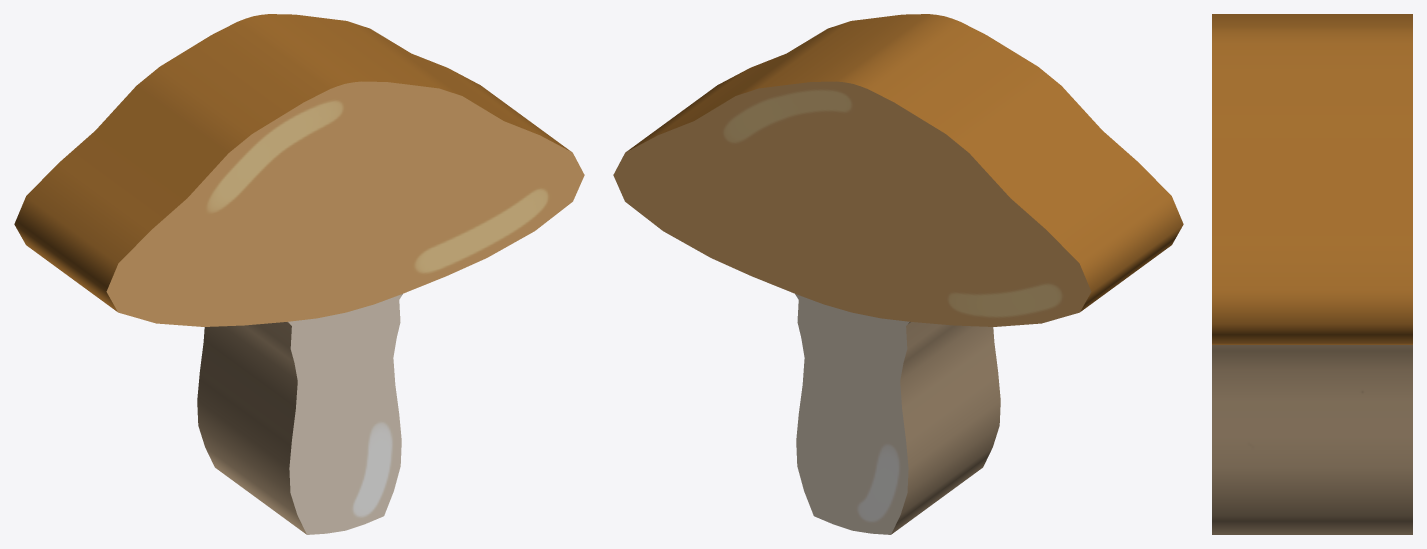
Rendered from mesh_Mushroom_v1.0.fbx.
3 renders of one model, left to right at view 1: azimuth 30°, elevation 25°; view 2: azimuth 150°, elevation 25°; view 3: azimuth 270°, elevation 25°, orthographic. The views are drawn at different scales.
Visible parts, largest first — view 1: pCube9; view 2: pCube9; view 3: pCube9.
Boxes of the visible parts, x1=… form: pCube9: x1=14, y1=14, x2=584, y2=534; pCube9: x1=613, y1=14, x2=1183, y2=534; pCube9: x1=1212, y1=14, x2=1412, y2=534.
Size of the model in its own units: 87.07 by 77.77 by 29.08.
